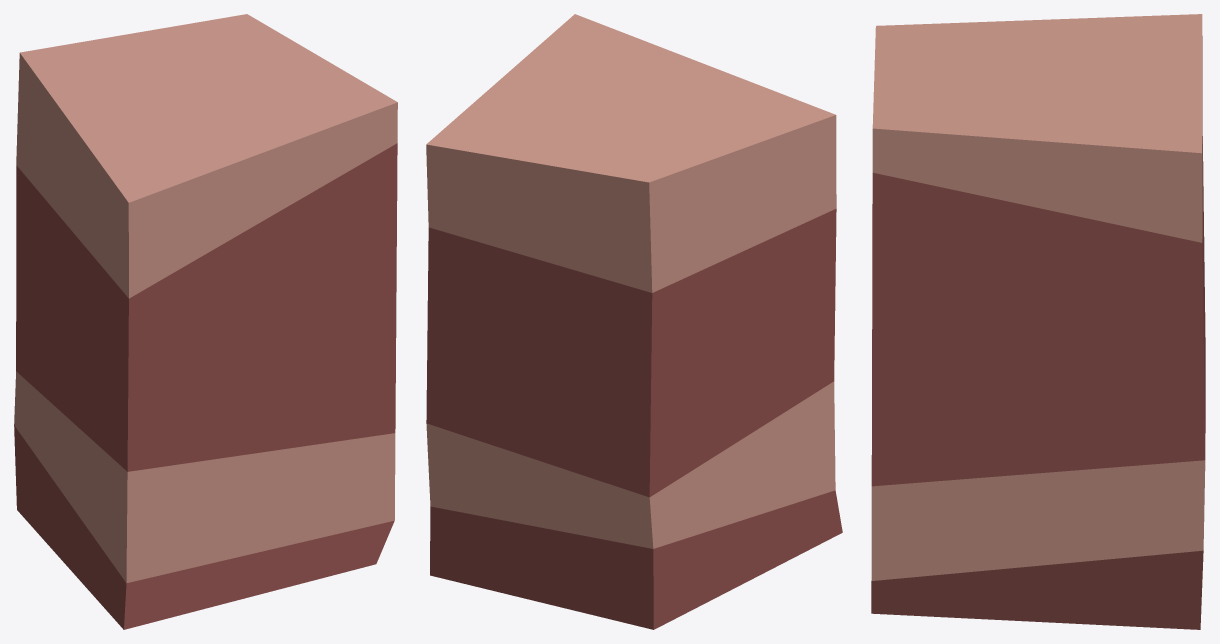
Rendered from porkBellyBit.fbx.
3 renders of one model, left to right at view 1: azimuth 30°, elevation 25°; view 2: azimuth 150°, elevation 25°; view 3: azimuth 270°, elevation 25°, orthographic. The views are drawn at different scales.
Visible parts, largest first — view 1: porkBellyBit; view 2: porkBellyBit; view 3: porkBellyBit.
Part boxes in pixels (x1,y1,x2,y2): porkBellyBit: (14, 14, 397, 629); porkBellyBit: (426, 14, 842, 629); porkBellyBit: (871, 14, 1205, 629).
Size of the model in its own units: 5.97 by 9.61 by 5.8.
1 material, 1 textured.
